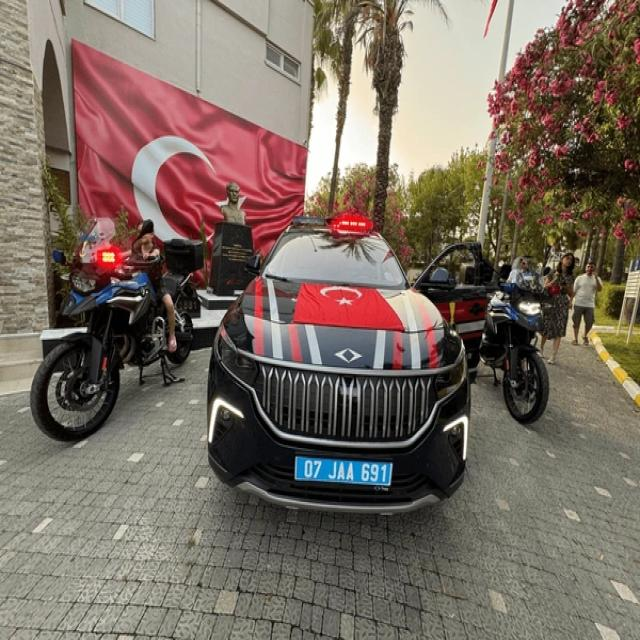togg: (335, 344, 364, 364)
